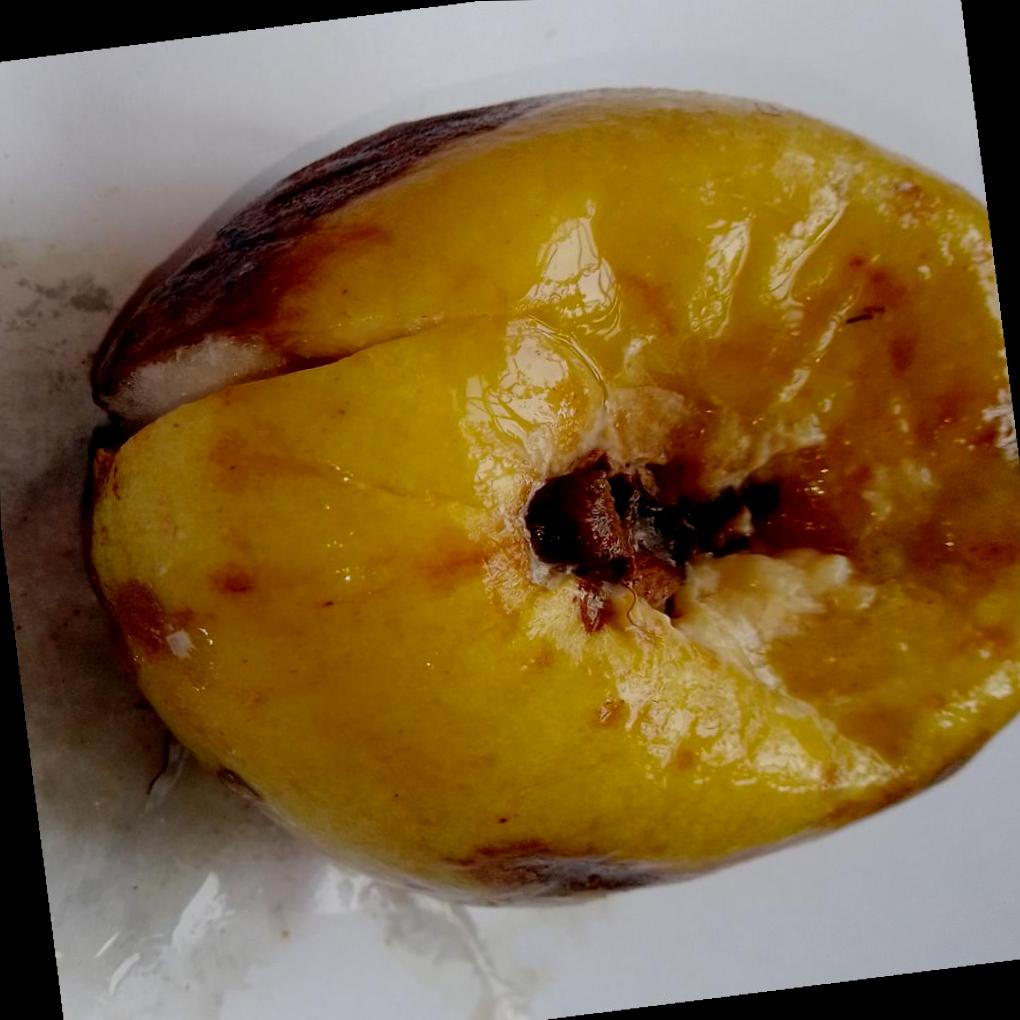FreshOrange: (85, 87, 1020, 909)
